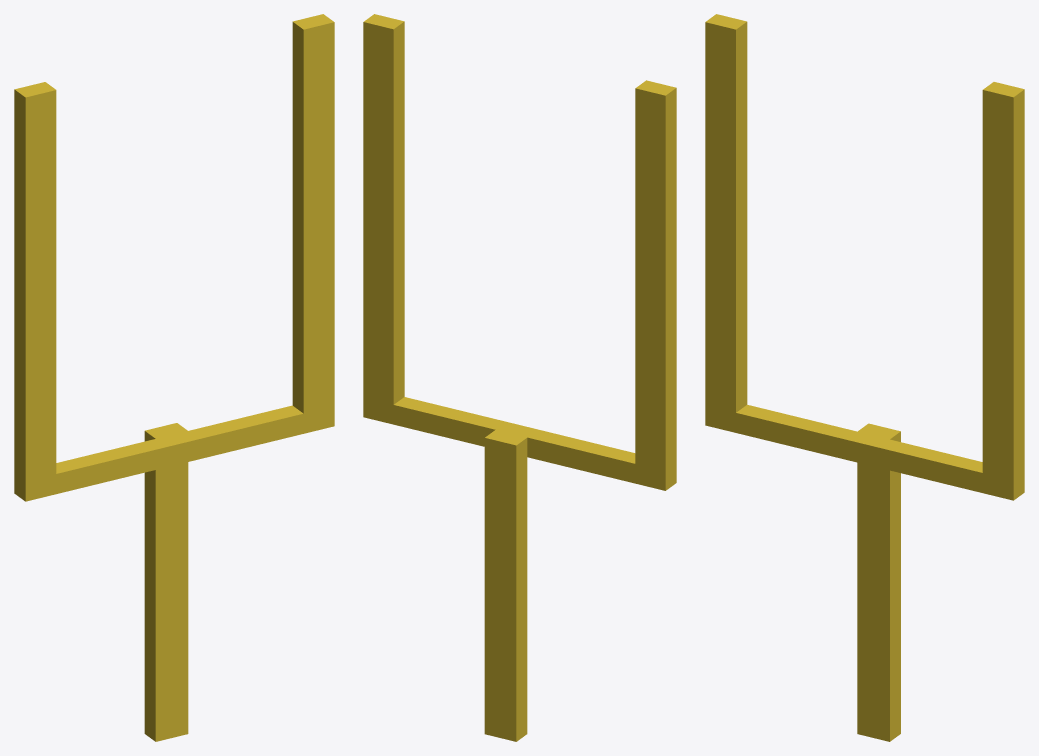
Rendered from FieldGoal.fbx.
3 renders of one model, left to right at view 1: azimuth 30°, elevation 25°; view 2: azimuth 150°, elevation 25°; view 3: azimuth 330°, elevation 25°, orthographic. The views are drawn at different scales.
Parts seen in each view (by area): view 1: mergedBlocks; view 2: mergedBlocks; view 3: mergedBlocks.
Boxes of the visible parts, box(x1,y1,x2,y2) form: mergedBlocks: box(14, 14, 334, 741); mergedBlocks: box(363, 14, 676, 741); mergedBlocks: box(705, 14, 1024, 741).
Bounding box in the file's own units: 16 × 34 × 2.
